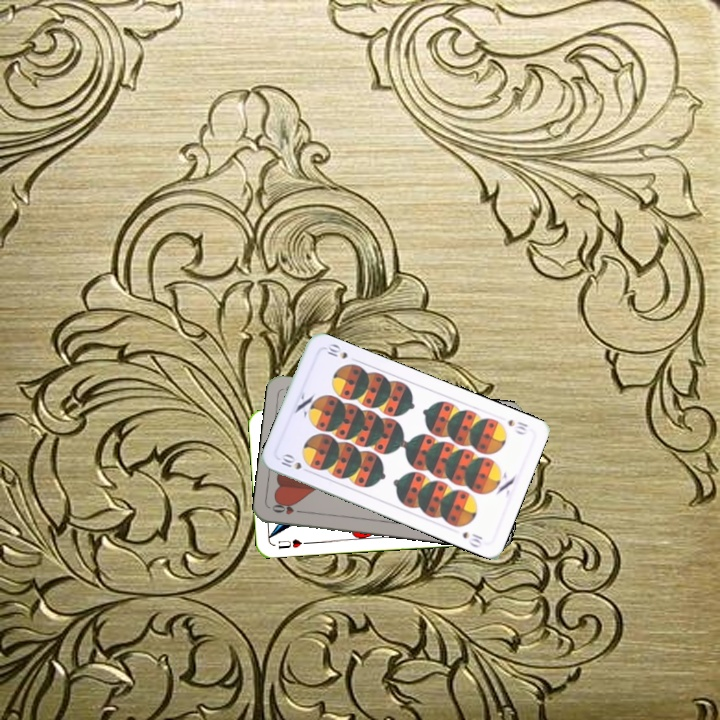HO: (268, 500, 308, 517)
HU: (274, 535, 311, 551)
S10: (275, 450, 314, 474), (504, 415, 531, 437)
